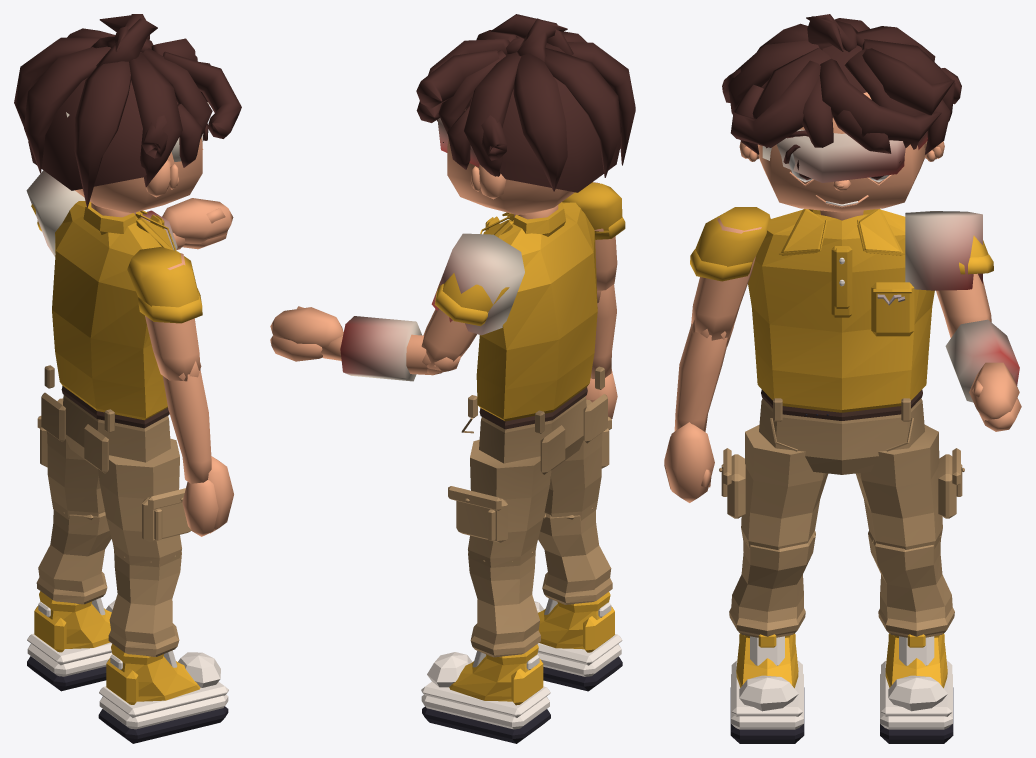
3 renders of one model, left to right at view 1: azimuth 30°, elevation 25°; view 2: azimuth 150°, elevation 25°; view 3: azimuth 270°, elevation 25°, orthographic. The views are drawn at different scales.
Parts seen in each view (by area): view 1: head_pal_hairChestnut, torso_pal_schoolBusYellow, legR_pal_khaki, shinR_pal_khaki, hip_pal_khaki, shinL_pal_khaki, footR_pal_picketWhite, armR_pal_schoolBusYellow, head_pal_skinWarm, foreArmR_pal_skinWarm, legL_pal_khaki, footR_pal_schoolBusYellow (+9 smaller); view 2: head_pal_hairChestnut, torso_pal_schoolBusYellow, legL_pal_khaki, hip_pal_khaki, shinL_pal_khaki, shinR_pal_khaki, armL_pal_picketWhite, footL_pal_picketWhite, foreArmL_pal_picketWhite, head_pal_skinWarm, legR_pal_khaki, footL_pal_schoolBusYellow (+13 smaller); view 3: torso_pal_schoolBusYellow, head_pal_hairChestnut, legL_pal_khaki, legR_pal_khaki, hip_pal_khaki, shinR_pal_khaki, shinL_pal_khaki, head_pal_skinWarm, armL_pal_picketWhite, head_pal_picketWhite, footL_pal_picketWhite, footR_pal_picketWhite (+13 smaller).
Boxes of the visible parts, box(x1,y1,x2,y2) form: head_pal_hairChestnut: box(14, 14, 241, 207); torso_pal_schoolBusYellow: box(52, 201, 176, 420); legR_pal_khaki: box(98, 438, 191, 567); shinR_pal_khaki: box(108, 551, 181, 656); hip_pal_khaki: box(41, 365, 170, 473); shinL_pal_khaki: box(36, 509, 111, 604); footR_pal_picketWhite: box(99, 650, 228, 729); armR_pal_schoolBusYellow: box(127, 247, 202, 323); head_pal_skinWarm: box(75, 137, 203, 217); foreArmR_pal_skinWarm: box(162, 361, 211, 484); legL_pal_khaki: box(37, 398, 104, 519); footR_pal_schoolBusYellow: box(106, 644, 200, 704); head_pal_hairChestnut: box(416, 14, 635, 192); torso_pal_schoolBusYellow: box(476, 202, 597, 421); legL_pal_khaki: box(448, 439, 551, 567); hip_pal_khaki: box(461, 366, 607, 474); shinL_pal_khaki: box(468, 551, 540, 657); shinR_pal_khaki: box(538, 508, 612, 604); armL_pal_picketWhite: box(431, 233, 524, 335); footL_pal_picketWhite: box(421, 651, 550, 729); foreArmL_pal_picketWhite: box(340, 316, 422, 381); head_pal_skinWarm: box(447, 109, 574, 219); legR_pal_khaki: box(544, 399, 611, 520); footL_pal_schoolBusYellow: box(449, 644, 543, 705); torso_pal_schoolBusYellow: box(748, 209, 934, 412); head_pal_hairChestnut: box(722, 14, 961, 179); legL_pal_khaki: box(856, 425, 964, 549); legR_pal_khaki: box(719, 425, 828, 549); hip_pal_khaki: box(759, 398, 924, 474); shinR_pal_khaki: box(729, 530, 815, 637); shinL_pal_khaki: box(868, 530, 954, 637); head_pal_skinWarm: box(739, 92, 944, 220); armL_pal_picketWhite: box(905, 211, 982, 290); head_pal_picketWhite: box(762, 129, 927, 206); footL_pal_picketWhite: box(880, 636, 952, 729); footR_pal_picketWhite: box(731, 636, 803, 729).
Bounding box in the file's own units: 0.7738 × 1.81 × 0.8318.
